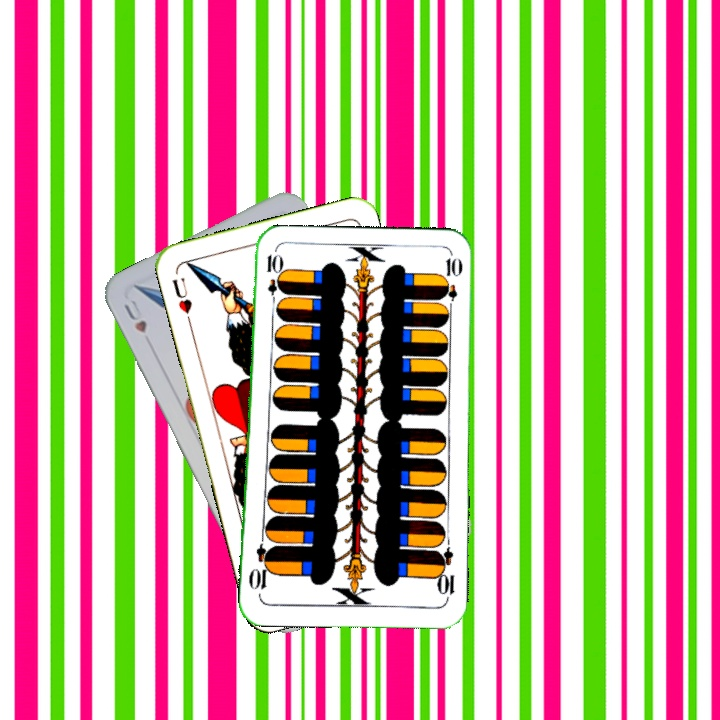E10: (432, 543, 457, 603), (263, 250, 279, 309)
HU: (168, 273, 195, 326), (120, 295, 150, 336)
